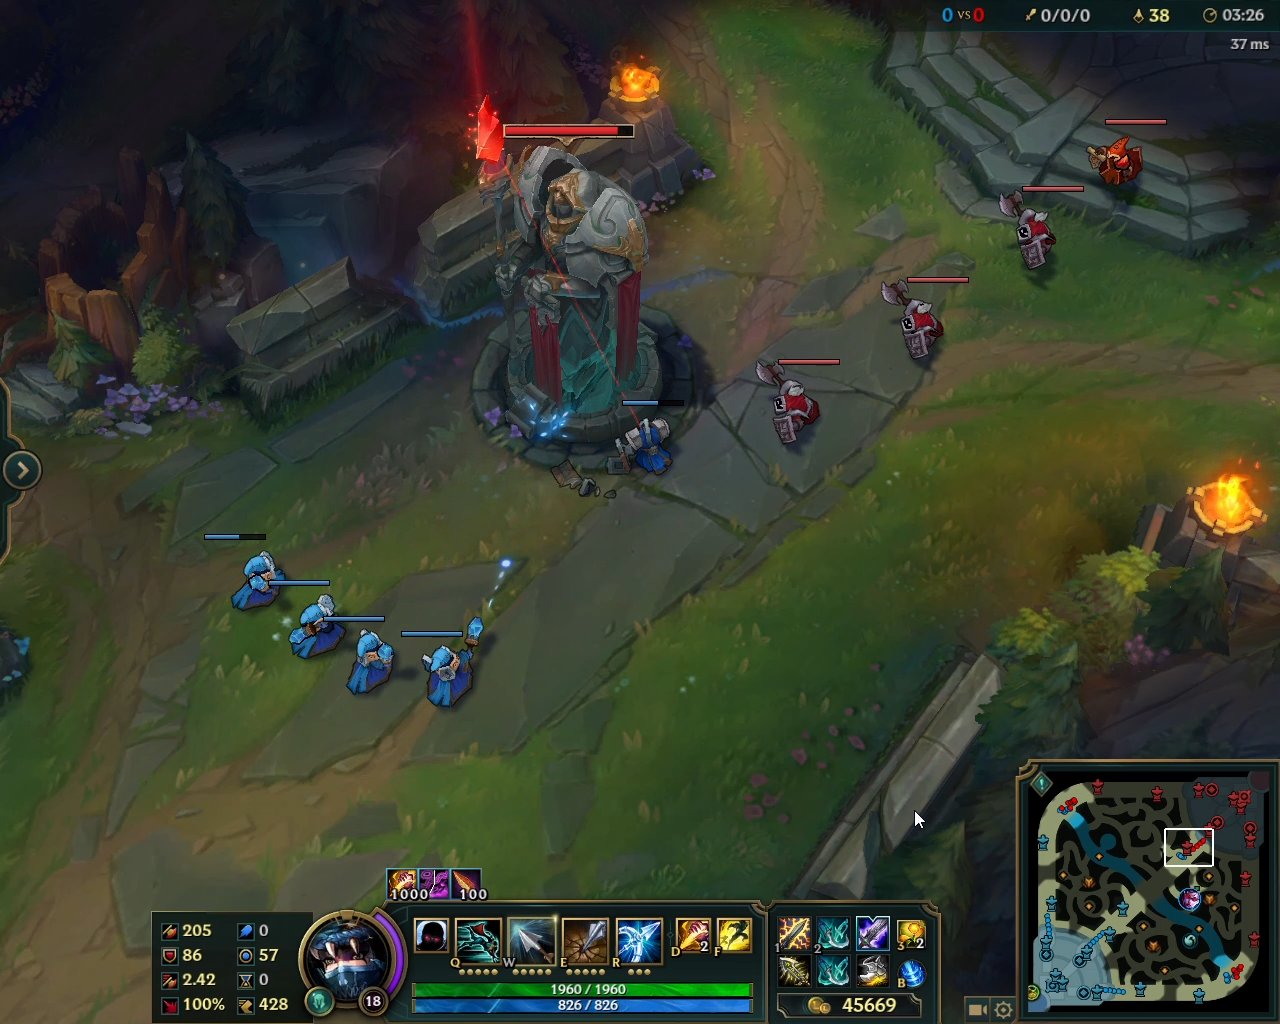EnemyMinion: (750, 354, 839, 450), (876, 272, 970, 362), (994, 186, 1083, 276), (1086, 119, 1165, 189)
Tower: (459, 87, 678, 466)
